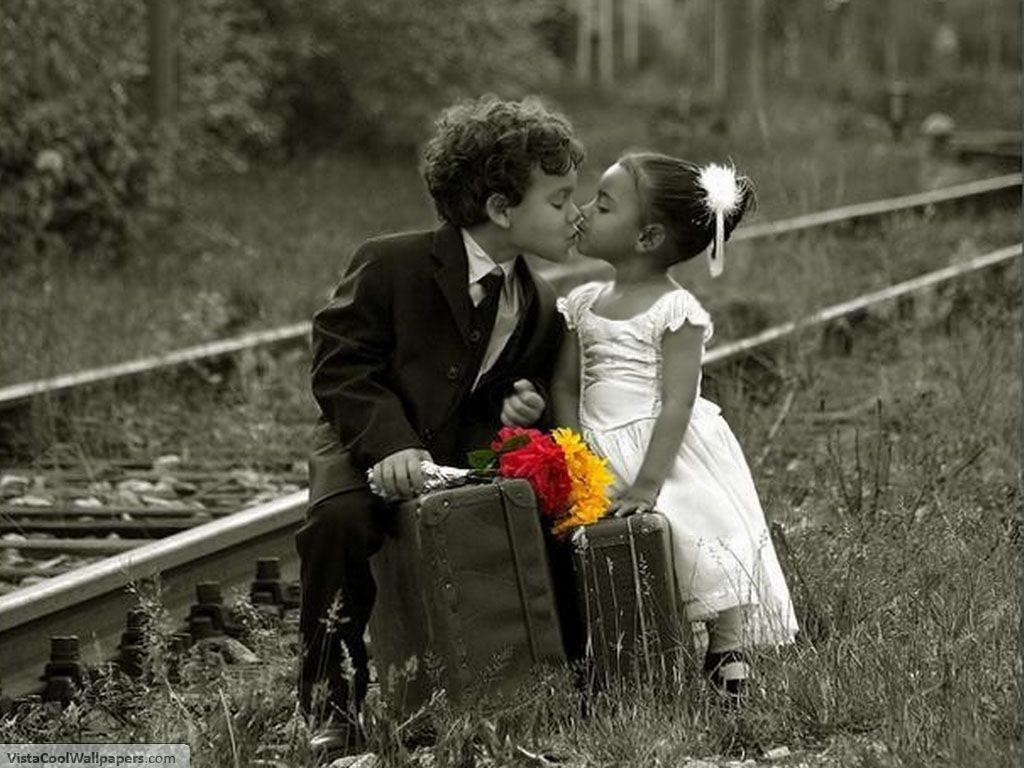face: (522, 146, 580, 264), (578, 166, 644, 254)
